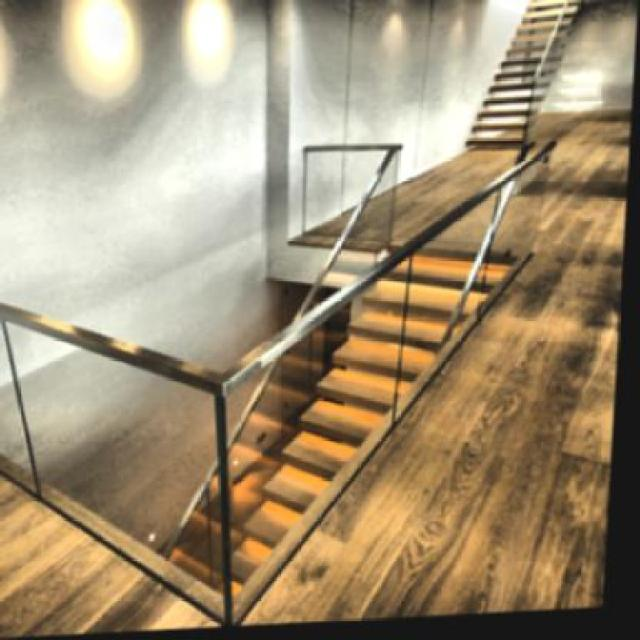stair: (469, 0, 578, 154)
